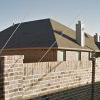Chimney: (68, 16, 93, 51)
